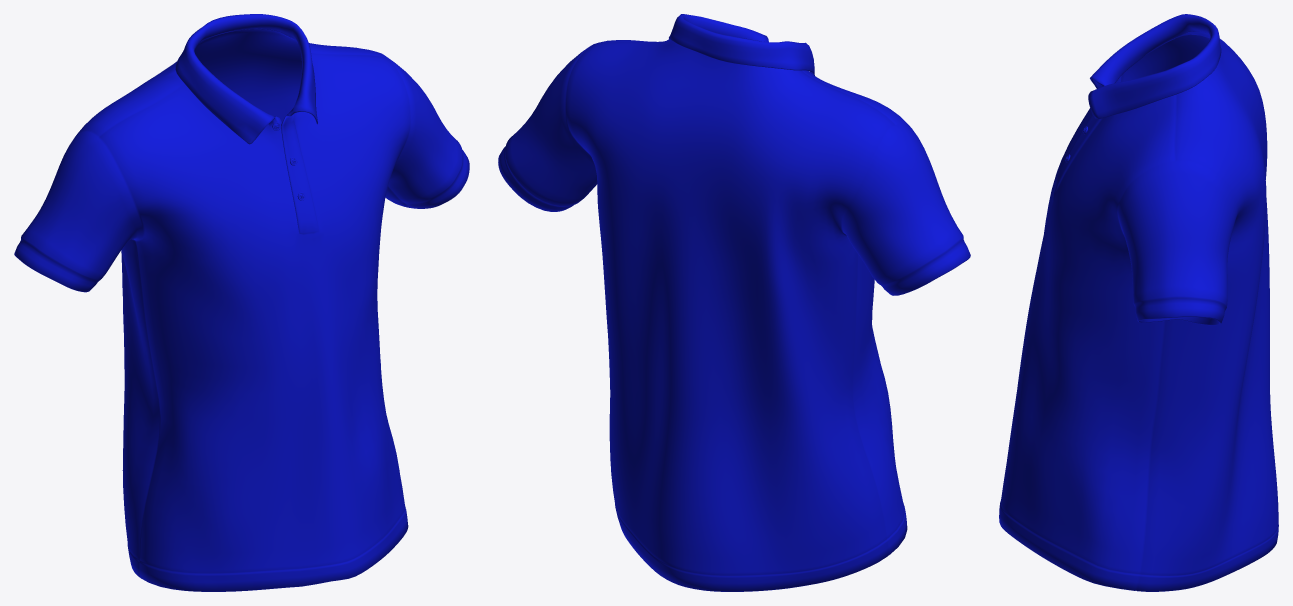
Rendered from stereo.gltf.
3 renders of one model, left to right at view 1: azimuth 30°, elevation 25°; view 2: azimuth 150°, elevation 25°; view 3: azimuth 270°, elevation 25°, orthographic. The views are drawn at different scales.
Visible parts, largest first — view 1: Polo Shirt.001; view 2: Polo Shirt.001; view 3: Polo Shirt.001.
Part boxes in pixels (x1,y1,x2,y2): Polo Shirt.001: [14, 14, 469, 591]; Polo Shirt.001: [498, 14, 970, 591]; Polo Shirt.001: [999, 14, 1278, 591].
Size of the model in its own units: 0.6433 by 0.7101 by 0.3541.
